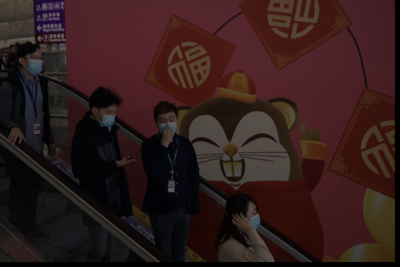with_mask: (22, 52, 44, 75), (157, 113, 178, 137), (96, 107, 118, 128), (245, 207, 261, 231)
